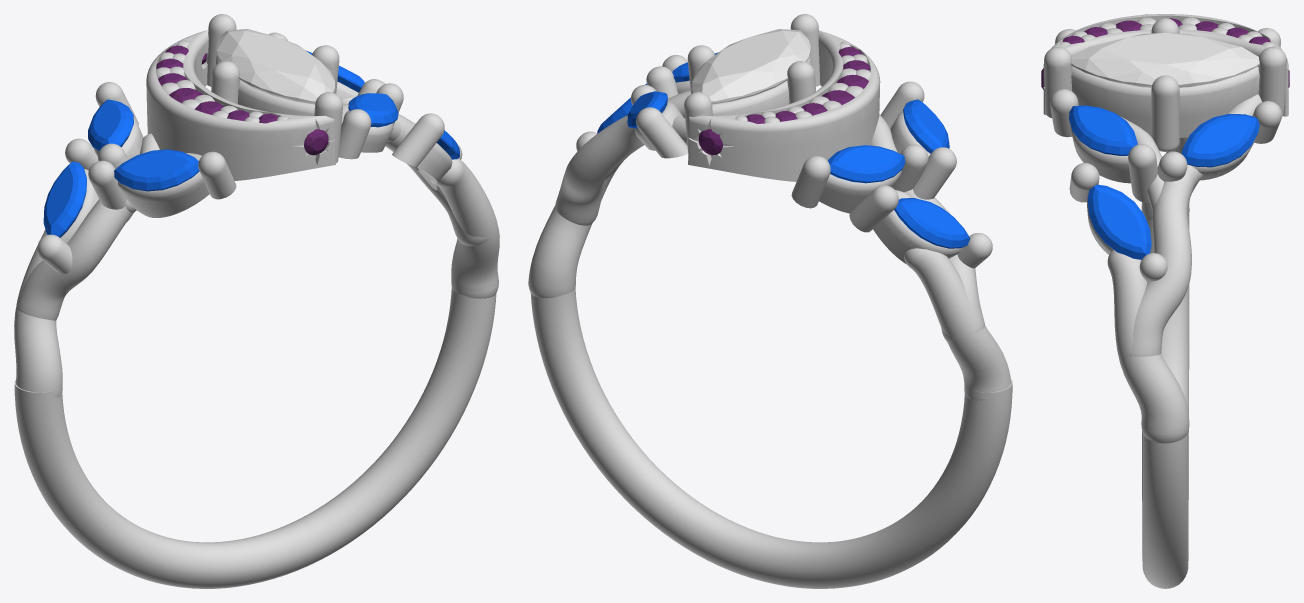
Rendered from AlexPTV3updated.glb.
3 views of the same model, side by side, from view 1: azimuth 30°, elevation 25°; view 2: azimuth 150°, elevation 25°; view 3: azimuth 270°, elevation 25° (orthographic).
Parts seen in each view (by area): view 1: V3 Alex PT for 3d model, Alex dia for 3d model, Alex sapph for 3d model.004, Alex sapph for 3d model, Alex alexandrite for 3d model, Alex sapph for 3d model.002, Alex sapph for 3d model.005; view 2: V3 Alex PT for 3d model, Alex dia for 3d model, Alex sapph for 3d model, Alex sapph for 3d model.002, Alex alexandrite for 3d model, Alex sapph for 3d model.004, Alex sapph for 3d model.001; view 3: V3 Alex PT for 3d model, Alex dia for 3d model, Alex sapph for 3d model.003, Alex sapph for 3d model.001, Alex sapph for 3d model.005, Alex alexandrite for 3d model.
Boxes of the visible parts, bbox=[...] form: V3 Alex PT for 3d model: bbox=[14, 14, 499, 588]; Alex dia for 3d model: bbox=[216, 29, 334, 104]; Alex sapph for 3d model.004: bbox=[114, 149, 199, 191]; Alex sapph for 3d model: bbox=[43, 161, 86, 237]; Alex alexandrite for 3d model: bbox=[156, 45, 328, 155]; Alex sapph for 3d model.002: bbox=[88, 99, 133, 150]; Alex sapph for 3d model.005: bbox=[348, 93, 398, 127]; V3 Alex PT for 3d model: bbox=[528, 14, 1012, 588]; Alex dia for 3d model: bbox=[692, 29, 810, 104]; Alex sapph for 3d model: bbox=[894, 198, 970, 248]; Alex sapph for 3d model.002: bbox=[828, 145, 905, 183]; Alex alexandrite for 3d model: bbox=[698, 47, 870, 155]; Alex sapph for 3d model.004: bbox=[903, 99, 949, 153]; Alex sapph for 3d model.001: bbox=[627, 91, 667, 128]; V3 Alex PT for 3d model: bbox=[1043, 14, 1288, 588]; Alex dia for 3d model: bbox=[1071, 32, 1259, 87]; Alex sapph for 3d model.003: bbox=[1087, 184, 1151, 259]; Alex sapph for 3d model.001: bbox=[1181, 114, 1259, 167]; Alex sapph for 3d model.005: bbox=[1069, 105, 1137, 155]; Alex alexandrite for 3d model: bbox=[1041, 18, 1289, 89].
Size of the model in its own units: 19.68 by 20.68 by 8.81.
